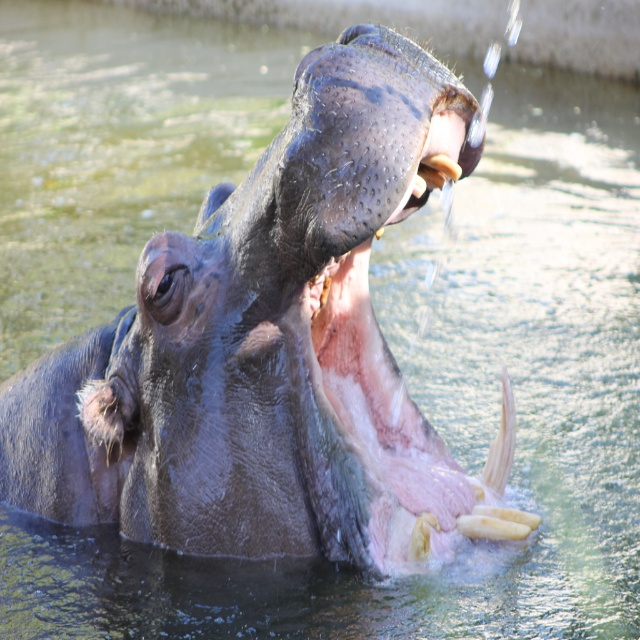Hippopotamus: (0, 23, 540, 571)
